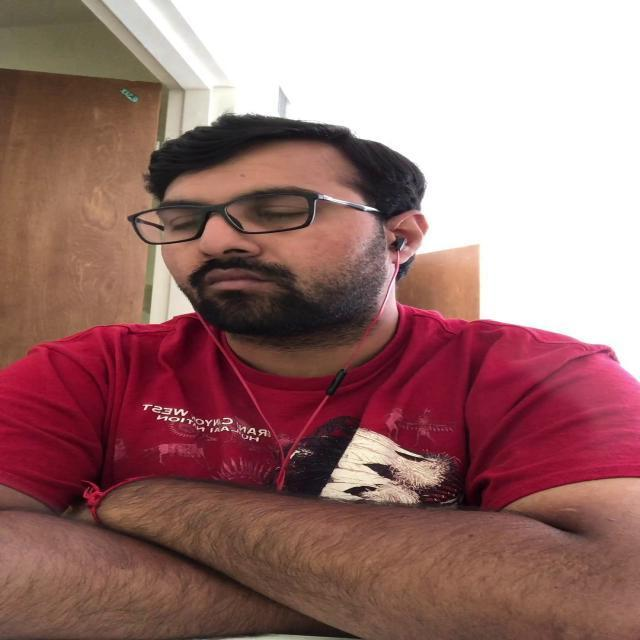close: (242, 182, 323, 236), (158, 190, 219, 242)
